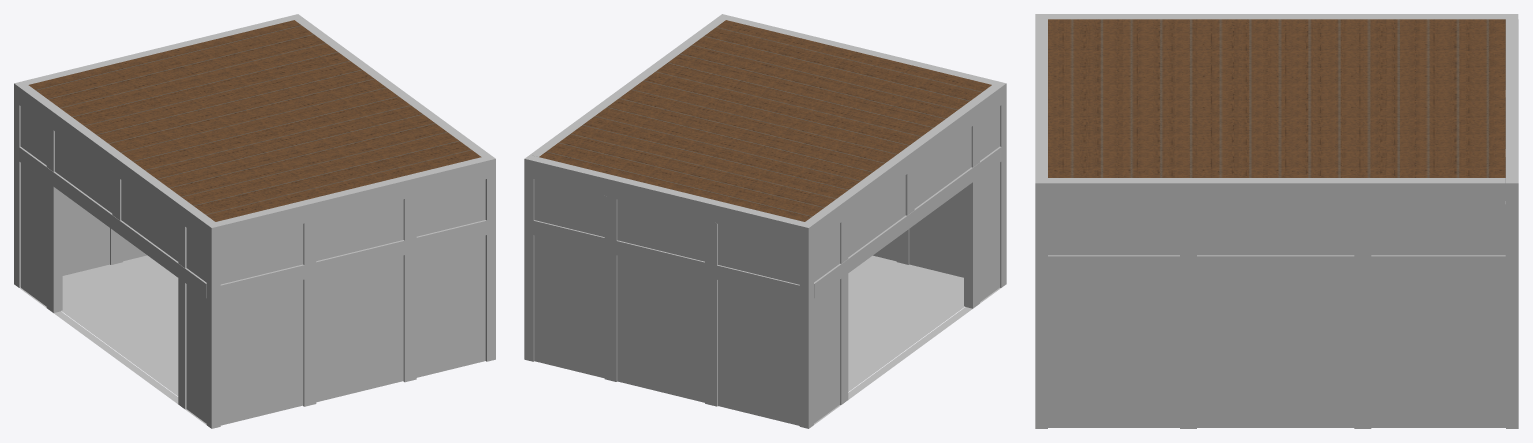
File: 精神世界の一部屋 始まり.fbx
The picture shows the model from 3 angles, left to right: view 1: azimuth 30°, elevation 25°; view 2: azimuth 150°, elevation 25°; view 3: azimuth 270°, elevation 25°; orthographic projection. The views are drawn at different scales.
Parts seen in each view (by area): view 1: 平面.020, 立方体.001, 畳.012, 立方体, 平面.007, 平面.005, 平面.013, 立方体.005, 立方体.002, 平面.011, 平面.001, 立方体.004 (+9 smaller); view 2: 平面.020, 立方体.002, 畳.012, 立方体, 平面.004, 平面.005, 平面.010, 立方体.001, 立方体.005, 平面.011, 平面, 平面.017 (+9 smaller); view 3: 立方体.003, 平面.020, 平面.006, 平面.012, 平面.019, 平面.018, 平面.002, 平面.003, 平面.005, 平面.004, 平面.007.
Boxes of the visible parts, x1,y1,x2,y2 form: 平面.020: [28, 20, 481, 221]; 立方体.001: [220, 179, 485, 425]; 畳.012: [61, 255, 178, 396]; 立方体: [20, 106, 206, 282]; 平面.007: [216, 157, 486, 243]; 平面.005: [19, 85, 214, 241]; 平面.013: [220, 220, 486, 299]; 立方体.005: [21, 163, 46, 306]; 立方体.002: [62, 193, 146, 275]; 平面.011: [19, 146, 206, 298]; 平面.001: [206, 222, 220, 428]; 立方体.004: [186, 284, 206, 423]; 平面.020: [539, 20, 991, 221]; 立方体.002: [534, 179, 799, 425]; 畳.012: [848, 255, 964, 391]; 立方体: [814, 106, 999, 282]; 平面.004: [533, 157, 804, 243]; 平面.005: [805, 85, 1001, 241]; 平面.010: [533, 220, 799, 299]; 立方体.001: [873, 189, 963, 277]; 立方体.005: [814, 280, 839, 423]; 平面.011: [814, 146, 1001, 298]; 平面: [799, 222, 813, 428]; 平面.017: [604, 196, 617, 381]; 立方体.003: [1048, 201, 1505, 427]; 平面.020: [1048, 19, 1505, 177]; 平面.006: [1048, 178, 1505, 205]; 平面.012: [1048, 255, 1505, 273]; 平面.019: [1354, 205, 1371, 428]; 平面.018: [1180, 205, 1196, 428]; 平面.002: [1035, 178, 1047, 428]; 平面.003: [1506, 178, 1518, 428]; 平面.005: [1048, 14, 1505, 19]; 平面.004: [1506, 19, 1518, 177]; 平面.007: [1035, 19, 1047, 177].
Size of the model in its own units: 473 by 320 by 570.
